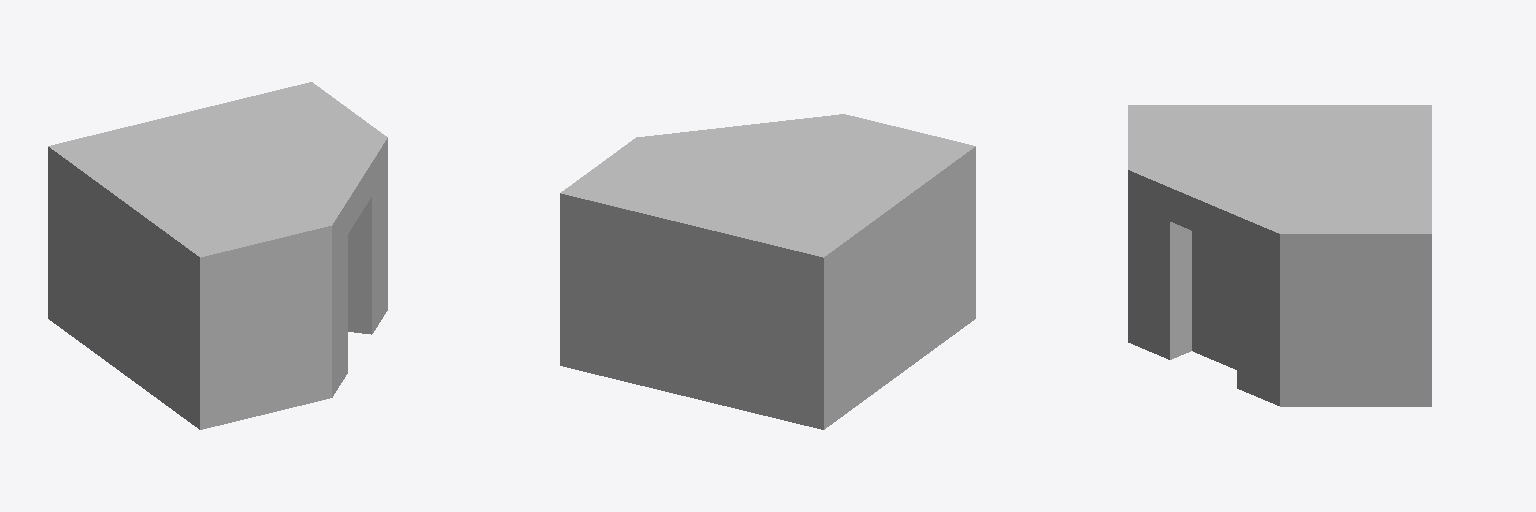
File: building-corner-window-top-square.obj
The picture shows the model from 3 angles: view 1: azimuth 30°, elevation 25°; view 2: azimuth 150°, elevation 25°; view 3: azimuth 270°, elevation 25°; orthographic projection.
Visible parts, largest first — view 1: building-corner-window-top-square; view 2: building-corner-window-top-square; view 3: building-corner-window-top-square.
Boxes of the visible parts, box(x1,y1,x2,y2) form: building-corner-window-top-square: box(48, 82, 387, 429); building-corner-window-top-square: box(560, 114, 975, 429); building-corner-window-top-square: box(1128, 105, 1431, 406).
Size of the model in its own units: 1 by 0.625 by 1.